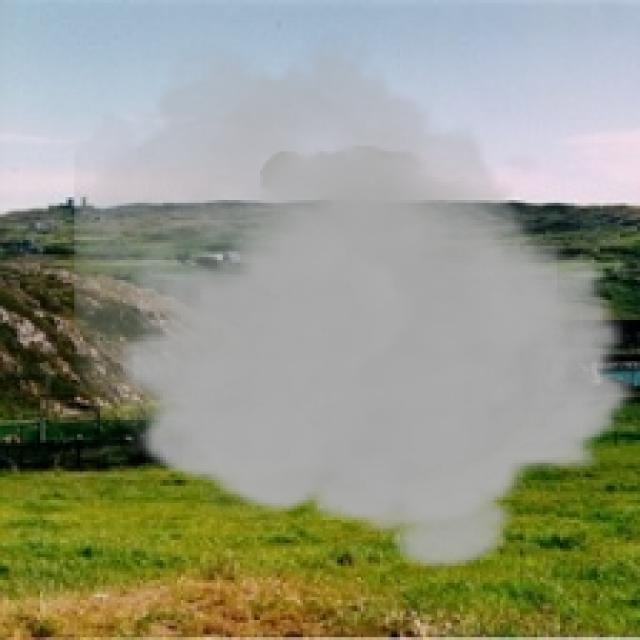smoke: (74, 29, 637, 574)
